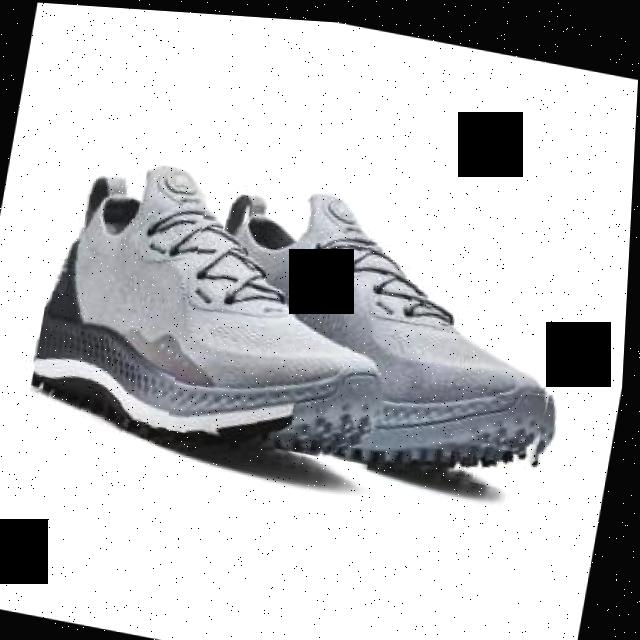shoe: (168, 168, 590, 494), (27, 145, 431, 483)
